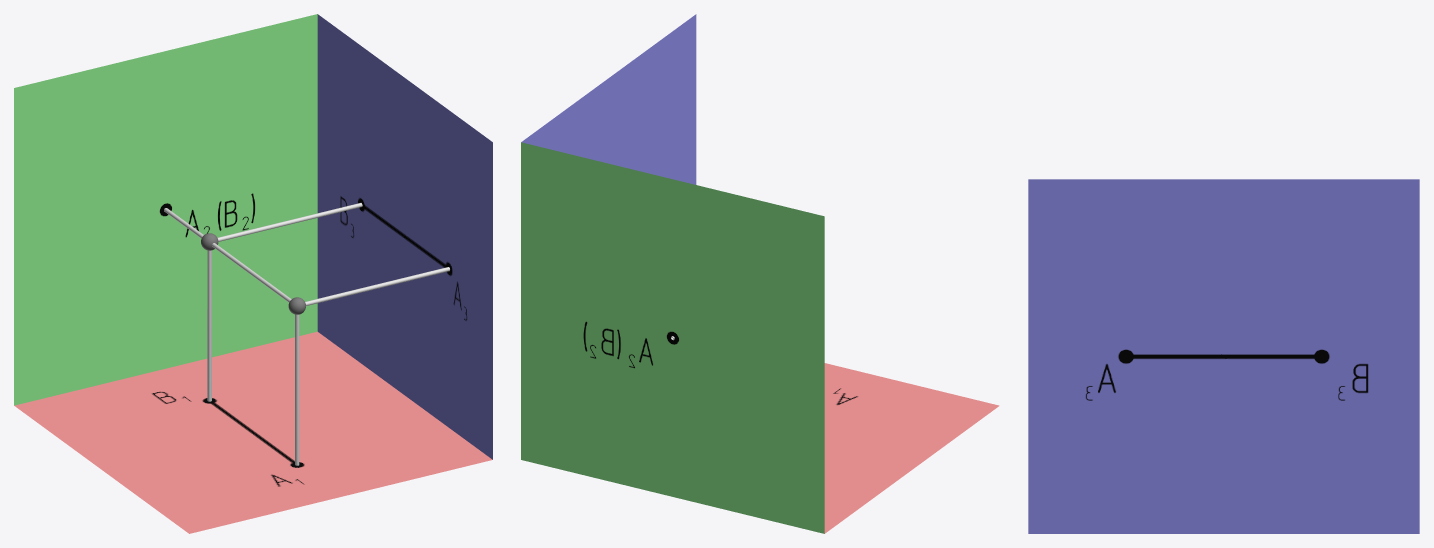
3 views of the same model, side by side, from view 1: azimuth 30°, elevation 25°; view 2: azimuth 150°, elevation 25°; view 3: azimuth 270°, elevation 25° (orthographic). The views are drawn at different scales.
Parts seen in each view (by area): view 1: p2, p3, p1, Cylinder.002, Cylinder.001, proj_B, proj_A, Cylinder; view 2: p2, p1, p3; view 3: p3.
Part boxes in pixels (x1,y1,x2,y2): p2: (14,14,317,405); p3: (317,14,492,459); p1: (14,331,492,533); Cylinder.002: (207,250,211,401); Cylinder.001: (295,314,299,465); proj_B: (217,203,362,241); proj_A: (305,267,449,305); Cylinder: (164,208,291,302); p2: (521,142,824,533); p1: (824,363,999,533); p3: (521,14,696,184); p3: (1028,179,1419,533).
Size of the model in its own units: 4 by 4 by 4.
Materials: 10 (3 with a texture image).
